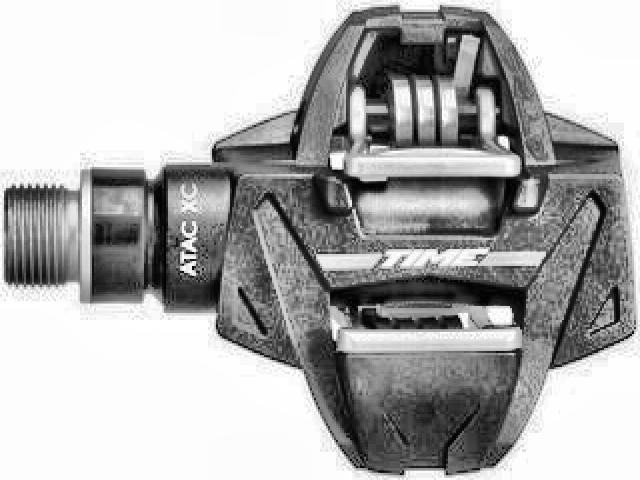pedal: (4, 6, 638, 477)
